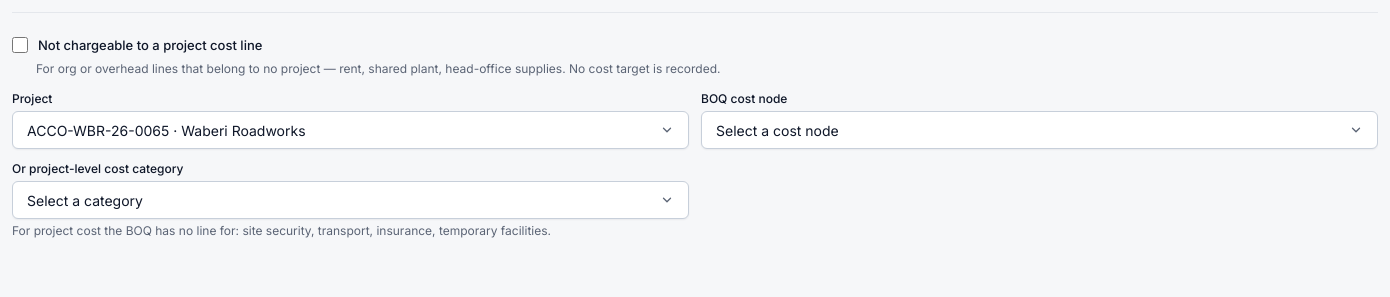
it: PoCostTargetPicker — BOQ node select › offers only leaf, active nodes and hides sections and inactive nodes
The width and height of the screenshot is (1390, 297).
Click the dropdown named "BOQ cost node" at (777, 130), box [701,111,1378,149]
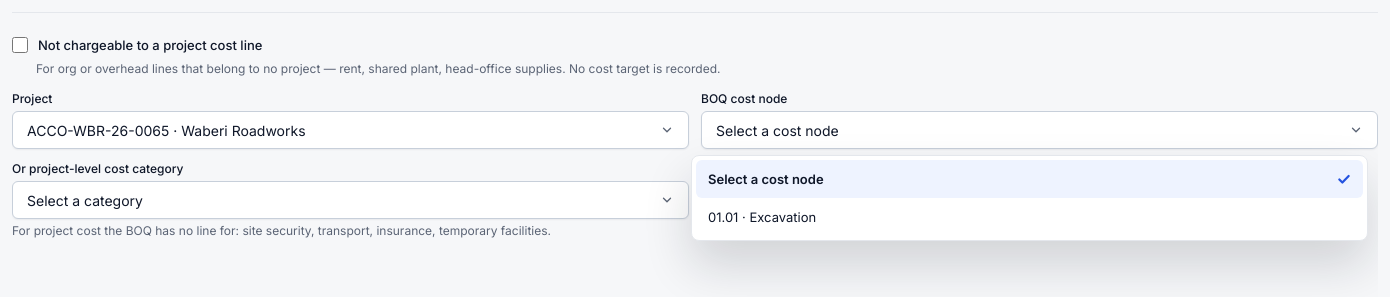
expect the list is shown: met, box [691,155,1368,241]
expect the option "01.01 · Excavation" is shown: met, box [708,209,816,225]
